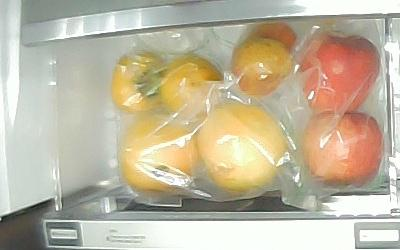apple_vinyl: (301, 31, 379, 112), (301, 111, 382, 188)
grapefruit_vinyl: (200, 102, 285, 193), (120, 111, 196, 192)
persimmon_vinyl: (161, 54, 222, 115), (111, 49, 164, 113)
prune_vinyl: (232, 37, 292, 96)
